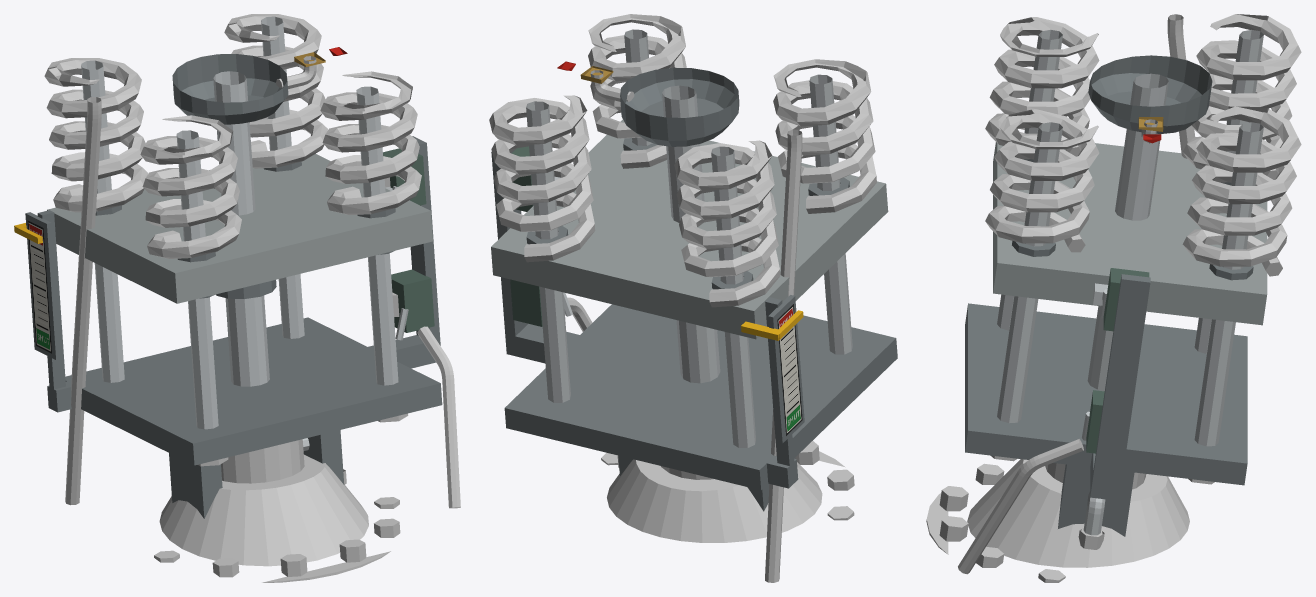
The model's file is cell_1.obj.
3 renders of one model, left to right at view 1: azimuth 30°, elevation 25°; view 2: azimuth 150°, elevation 25°; view 3: azimuth 270°, elevation 25°, orthographic. The views are drawn at different scales.
Bounding box in the file's own units: 0.8485 × 1 × 0.7723.
